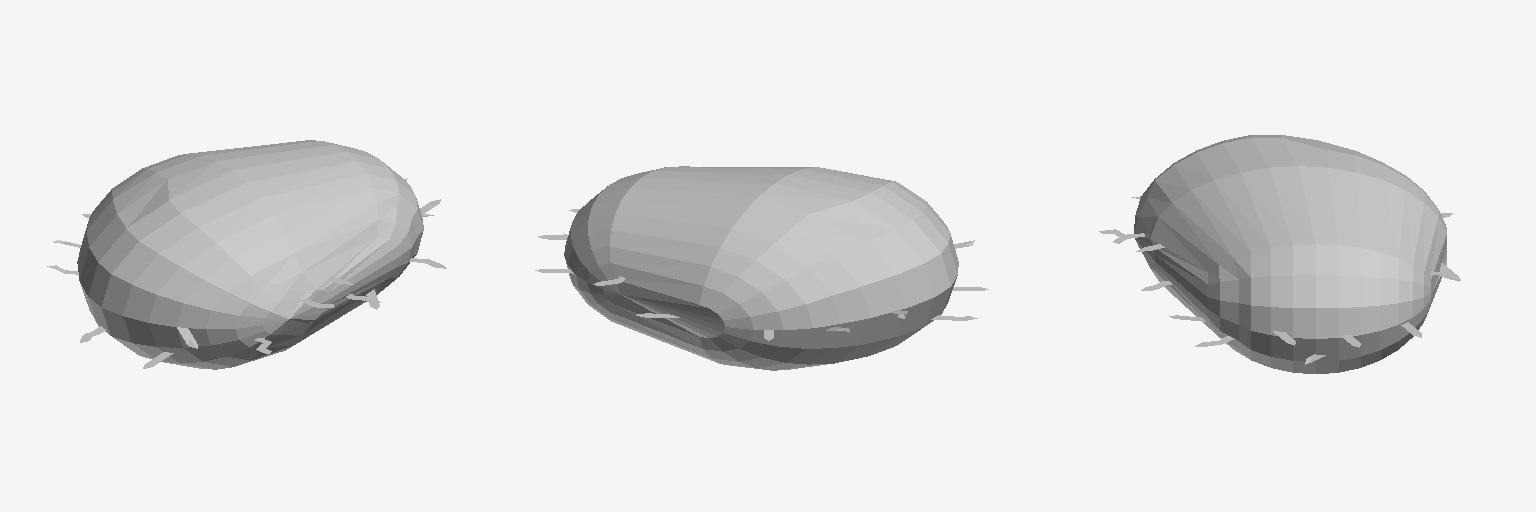
File: Microbiota.obj
The picture shows the model from 3 angles: view 1: azimuth 30°, elevation 25°; view 2: azimuth 150°, elevation 25°; view 3: azimuth 270°, elevation 25°; orthographic projection.
Visible parts, largest first — view 1: Plane.017; view 2: Plane.017; view 3: Plane.017.
Boxes of the visible parts, x1,y1,x2,y2 form: Plane.017: [47, 140, 446, 369]; Plane.017: [535, 166, 988, 370]; Plane.017: [1099, 135, 1460, 373].
Size of the model in its own units: 2.94 by 1.2 by 2.39.